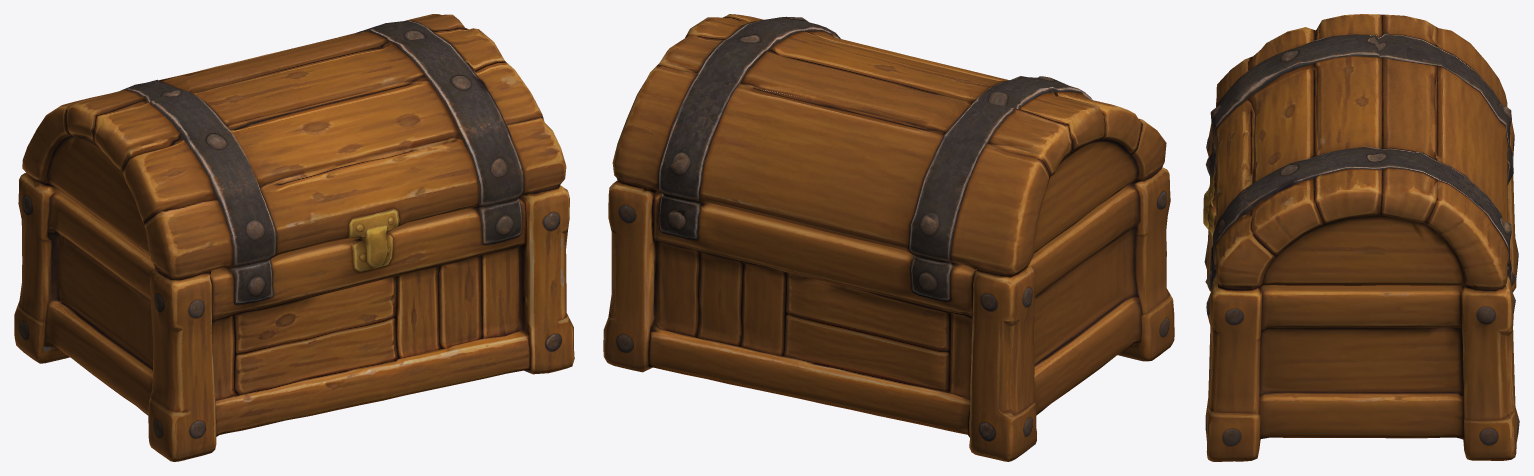
File: treasure_chest.glb
The picture shows the model from 3 angles, left to right: view 1: azimuth 30°, elevation 25°; view 2: azimuth 150°, elevation 25°; view 3: azimuth 270°, elevation 25°; orthographic projection. The views are drawn at different scales.
Visible parts, largest first — view 1: tripo_node_a406a399; view 2: tripo_node_a406a399; view 3: tripo_node_a406a399.
Part boxes in pixels (left/top/right/bottom): tripo_node_a406a399: left=14, top=14, right=574, bottom=461; tripo_node_a406a399: left=603, top=14, right=1174, bottom=461; tripo_node_a406a399: left=1203, top=14, right=1519, bottom=461.
Bounding box in the file's own units: 96.94 × 65.65 × 67.6.
Materials: 1 (1 with a texture image).
